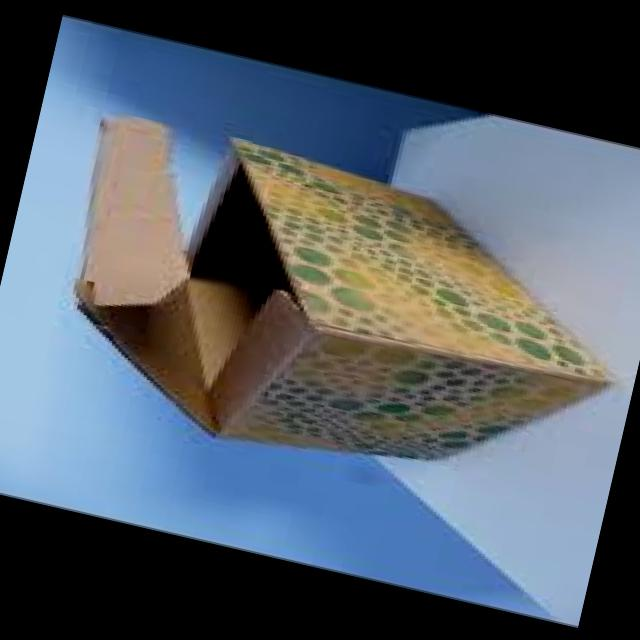cardboard: (77, 117, 608, 458)
